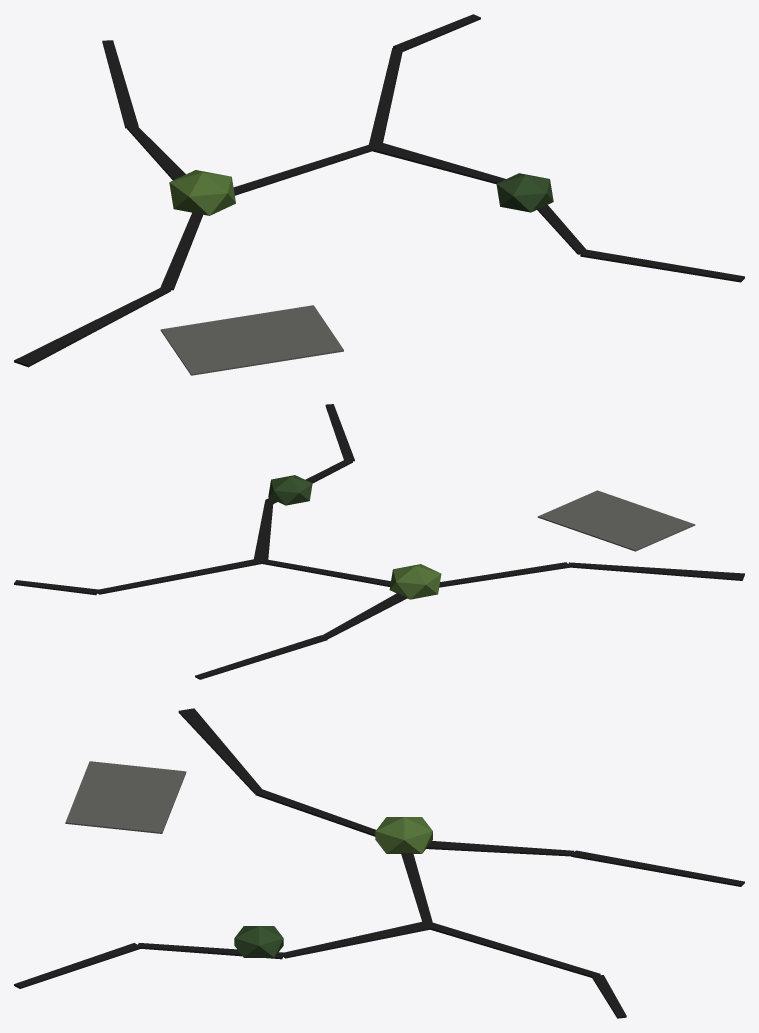
The model's file is ground_cracks.glb.
3 renders of one model, top to bottom at view 1: azimuth 30°, elevation 25°; view 2: azimuth 150°, elevation 25°; view 3: azimuth 270°, elevation 25°, orthographic. The views are drawn at different scales.
Parts seen in each view (by area): view 1: ground_cracks; view 2: ground_cracks; view 3: ground_cracks.
Part boxes in pixels (box(x1,y1,x2,y2)): ground_cracks: box(14, 14, 744, 375); ground_cracks: box(14, 404, 744, 679); ground_cracks: box(14, 708, 744, 1018).
Bounding box in the file's own units: 1.51 × 0.084 × 1.51.
Materials: 1 (1 with a texture image).
